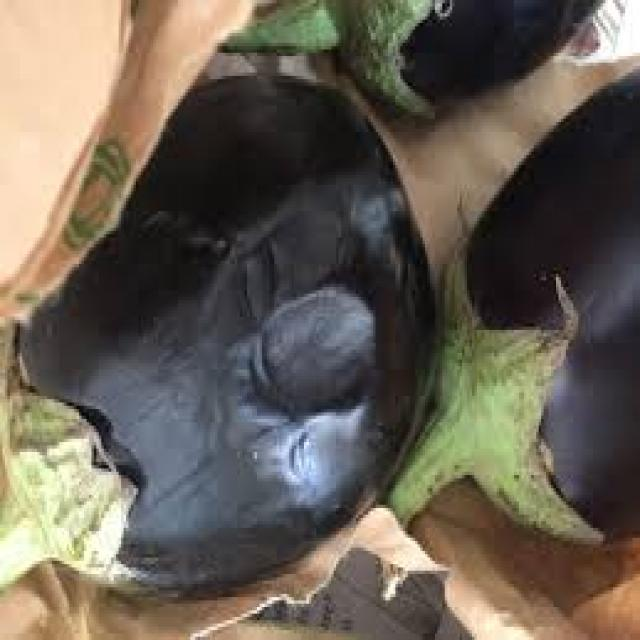organic waste: (0, 72, 432, 590), (380, 59, 638, 541), (212, 0, 606, 112)
